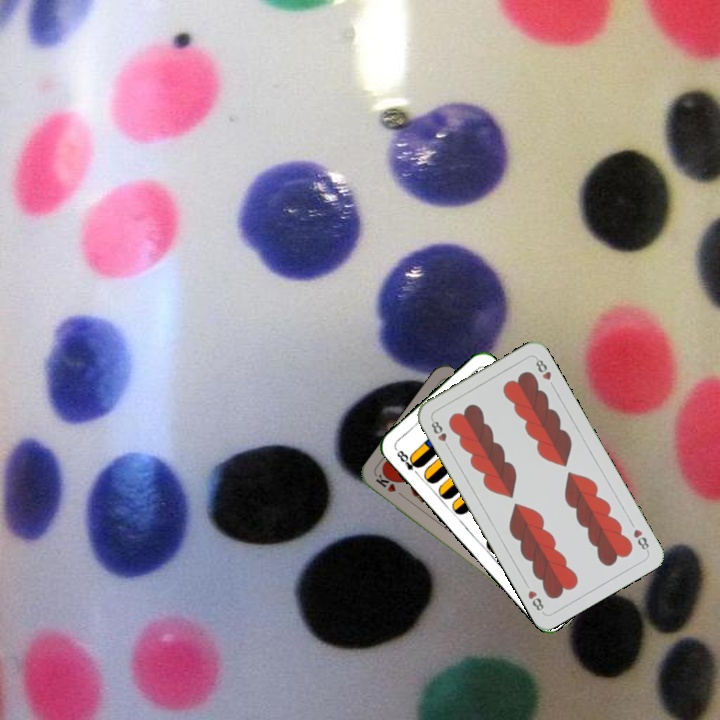E8: (392, 446, 423, 479)
H8: (427, 415, 453, 452), (629, 525, 652, 555)
HK: (372, 470, 408, 501)
